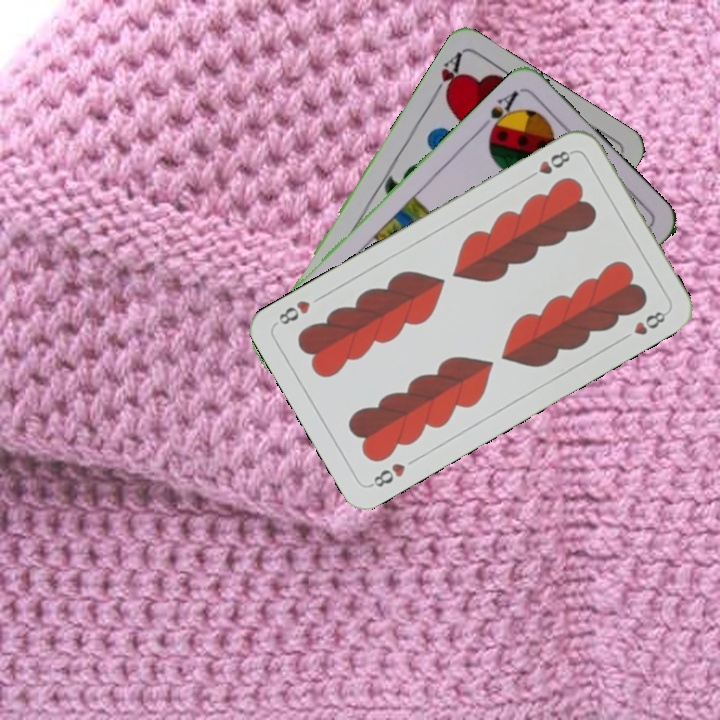H8: (522, 146, 575, 183), (365, 459, 408, 490)
HA: (427, 48, 465, 104)
SA: (485, 86, 522, 139)
